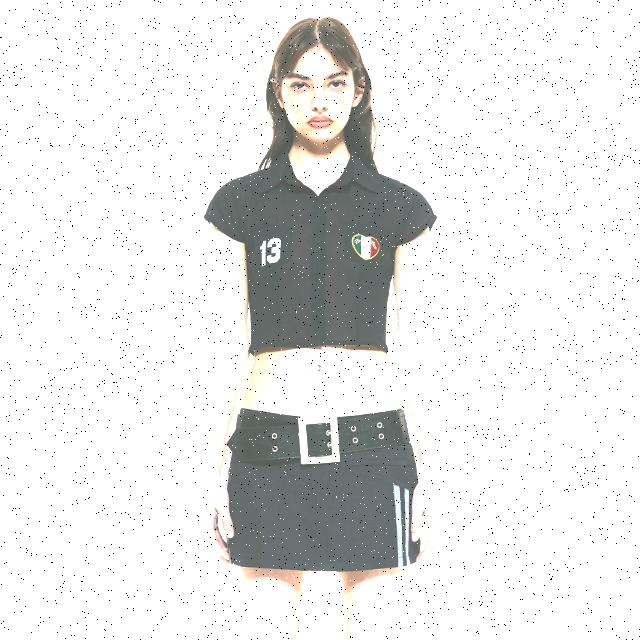dress: (200, 134, 434, 350), (222, 396, 431, 568)
